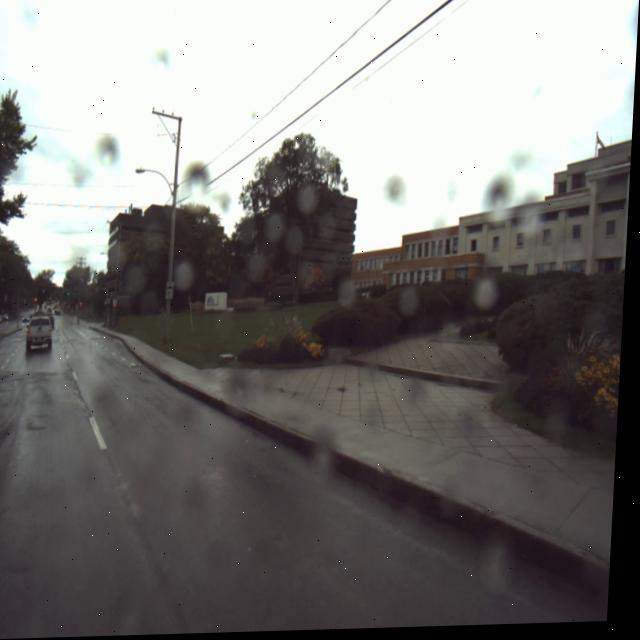car: (29, 316, 58, 353), (0, 314, 6, 324), (25, 315, 33, 322), (7, 312, 12, 322)
trafficLight: (37, 296, 41, 302)
trafficLight-Green: (44, 288, 48, 294), (69, 292, 73, 297)
trafficLight-Red: (82, 300, 87, 309)
